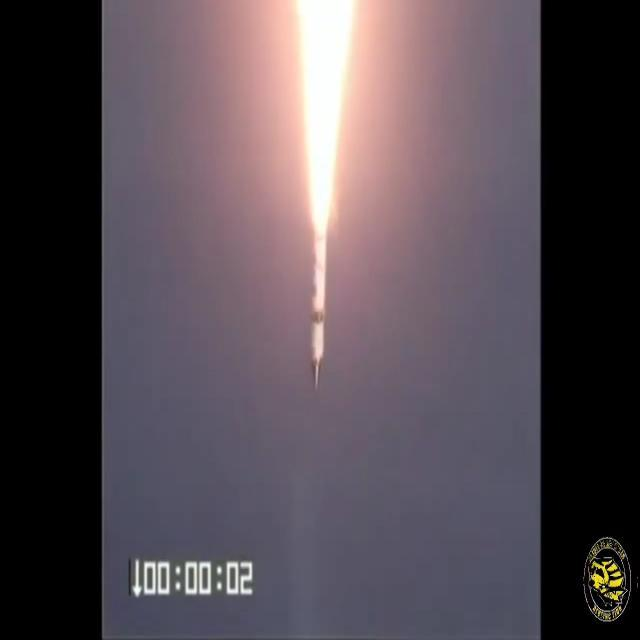missile: (306, 210, 332, 400)
